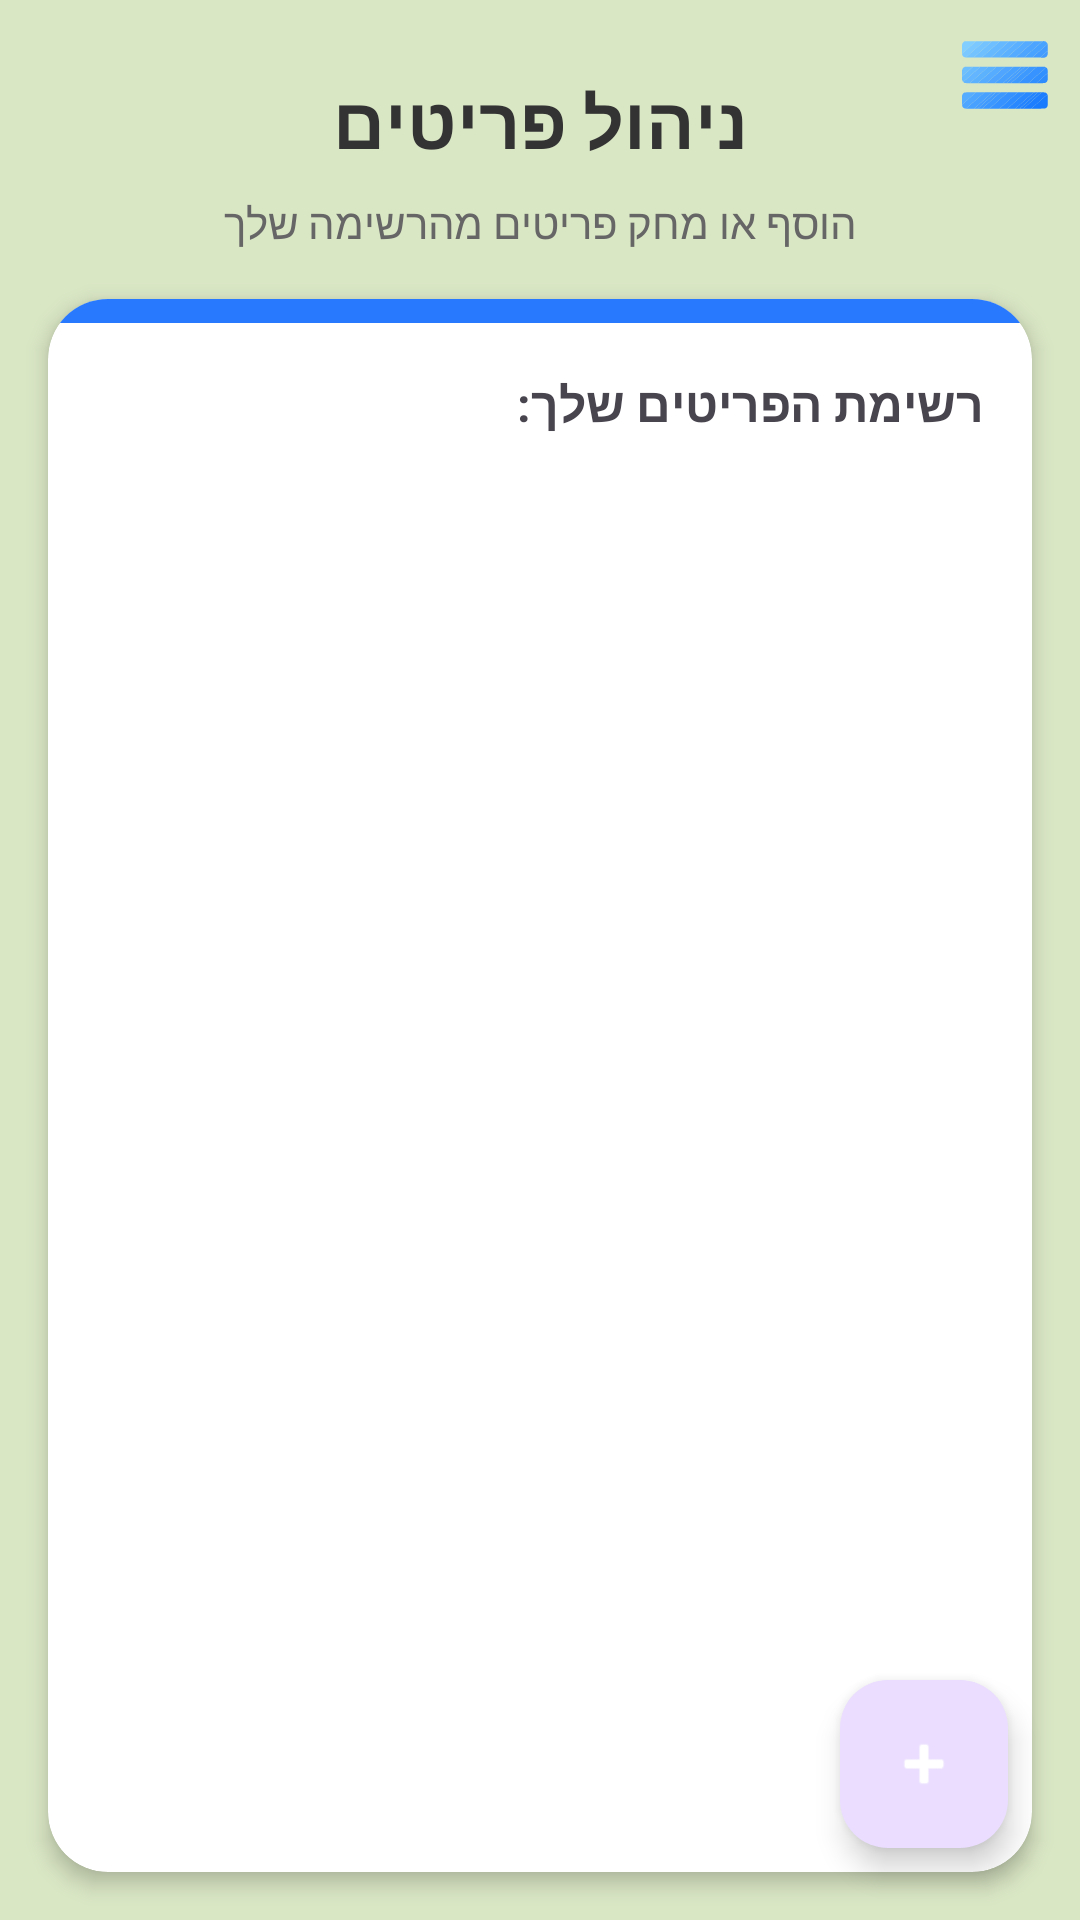

Point at icon controls on the screen. Image size 1080 × 1920, points as (x,y).
menu: (1005,75)
הוסף פריט חדש: (924,1764)
